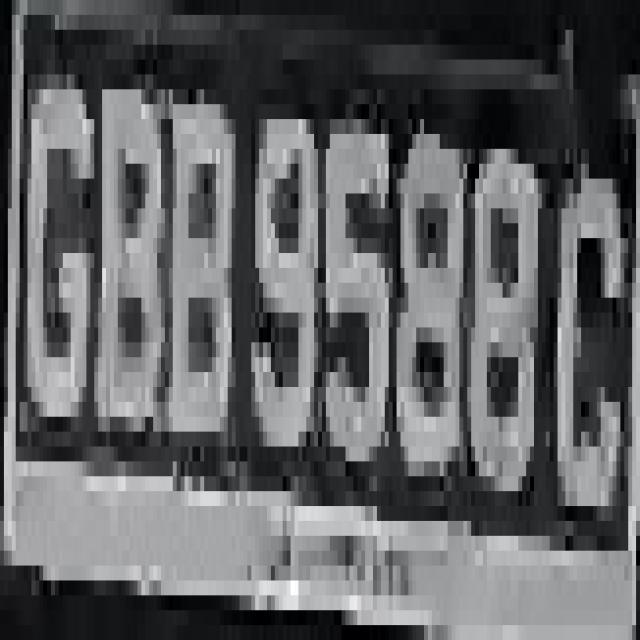5: (318, 44, 393, 447)
8: (389, 74, 459, 506), (475, 119, 550, 521)
9: (243, 104, 326, 476)
B: (161, 104, 236, 506), (90, 44, 165, 432)
C: (562, 119, 632, 536)
G: (24, 45, 98, 491)
